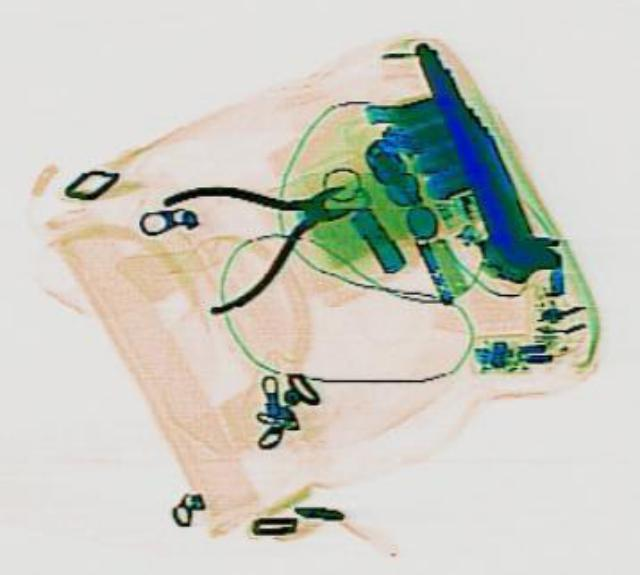Pliers: (146, 138, 380, 315)
